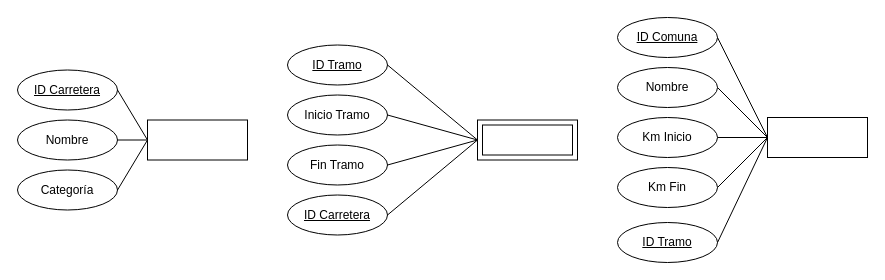
Image size: 885x280. Some labels were removed from this diagram. The box of each missing label's shape, as (x1, y1, x2, y2) in pixels:
Carreteras: (146, 119, 248, 160)
Comunas: (766, 116, 868, 158)
Tramos: (476, 119, 578, 160)
